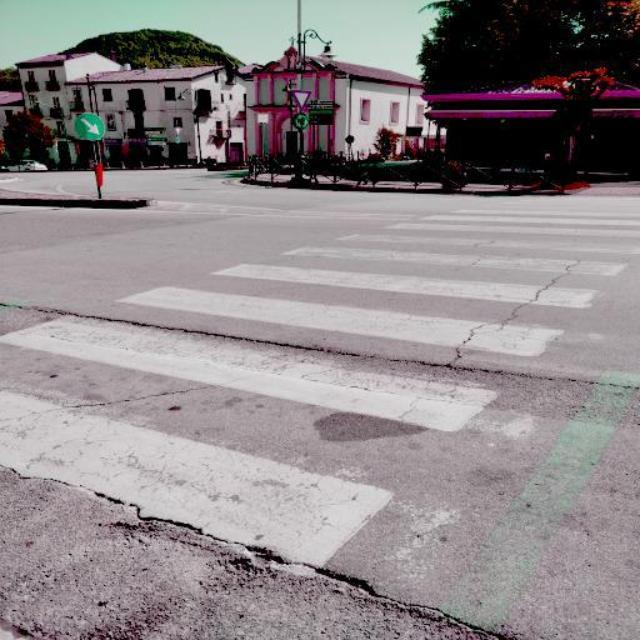sidewalk: (0, 188, 640, 581)
